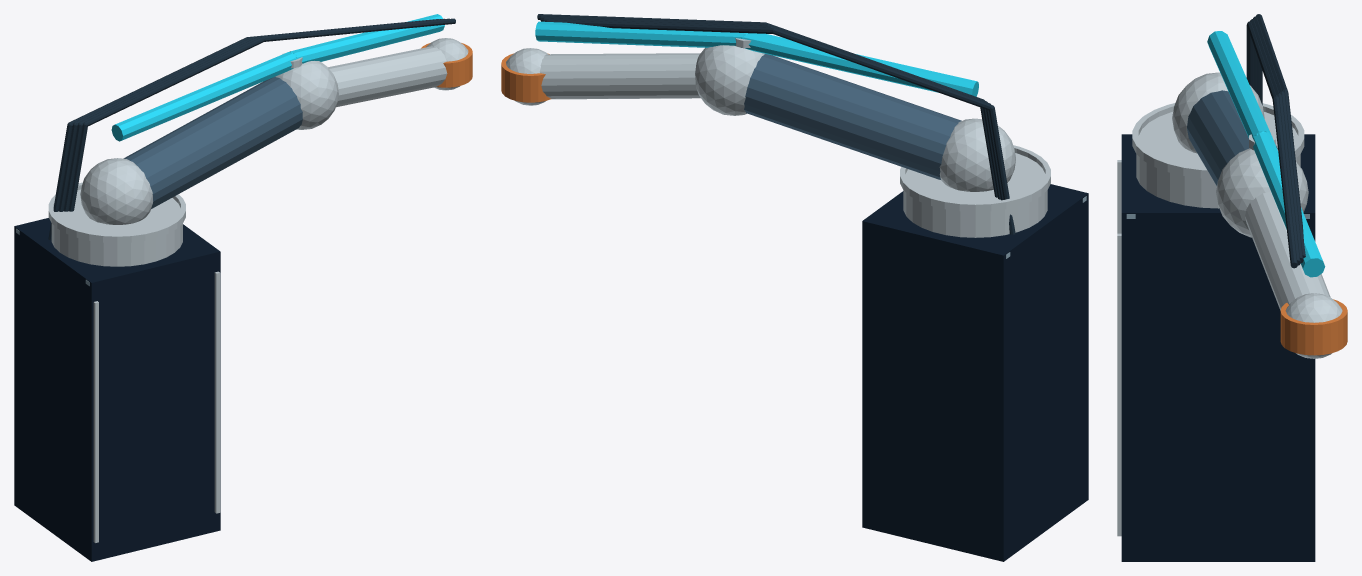
The model's file is 19_L73_MotorizedSlurryDispensingArm.fbx.
3 renders of one model, left to right at view 1: azimuth 30°, elevation 25°; view 2: azimuth 150°, elevation 25°; view 3: azimuth 270°, elevation 25°, orthographic. The views are drawn at different scales.
Visible parts, largest first — view 1: MotorizedSlurryDispensingArm, MotorizedSlurryDispensingArm_Part_0009, MotorizedSlurryDispensingArm_Part_0012, MotorizedSlurryDispensingArm_Part_0010, MotorizedSlurryDispensingArm_Part_0018, MotorizedSlurryDispensingArm_Part_0011, MotorizedSlurryDispensingArm_Part_0019, MotorizedSlurryDispensingArm_Part_0017, MotorizedSlurryDispensingArm_Part_0014; view 2: MotorizedSlurryDispensingArm, MotorizedSlurryDispensingArm_Part_0009, MotorizedSlurryDispensingArm_Part_0012, MotorizedSlurryDispensingArm_Part_0010, MotorizedSlurryDispensingArm_Part_0019, MotorizedSlurryDispensingArm_Part_0011, MotorizedSlurryDispensingArm_Part_0018, MotorizedSlurryDispensingArm_Part_0017, MotorizedSlurryDispensingArm_Part_0014; view 3: MotorizedSlurryDispensingArm, MotorizedSlurryDispensingArm_Part_0012, MotorizedSlurryDispensingArm_Part_0009, MotorizedSlurryDispensingArm_Part_0011, MotorizedSlurryDispensingArm_Part_0018, MotorizedSlurryDispensingArm_Part_0017, MotorizedSlurryDispensingArm_Part_0019, MotorizedSlurryDispensingArm_Part_0010, MotorizedSlurryDispensingArm_Part_0014.
Part boxes in pixels (x1,y1,x2,y2): MotorizedSlurryDispensingArm: [14, 18, 455, 561]; MotorizedSlurryDispensingArm_Part_0009: [123, 77, 302, 208]; MotorizedSlurryDispensingArm_Part_0012: [328, 46, 447, 107]; MotorizedSlurryDispensingArm_Part_0010: [80, 158, 153, 224]; MotorizedSlurryDispensingArm_Part_0018: [111, 52, 295, 141]; MotorizedSlurryDispensingArm_Part_0011: [275, 61, 338, 129]; MotorizedSlurryDispensingArm_Part_0019: [289, 14, 444, 63]; MotorizedSlurryDispensingArm_Part_0017: [421, 43, 472, 87]; MotorizedSlurryDispensingArm_Part_0014: [426, 38, 468, 90]; MotorizedSlurryDispensingArm: [537, 14, 1088, 561]; MotorizedSlurryDispensingArm_Part_0009: [744, 54, 961, 179]; MotorizedSlurryDispensingArm_Part_0012: [539, 53, 700, 99]; MotorizedSlurryDispensingArm_Part_0010: [939, 118, 1015, 191]; MotorizedSlurryDispensingArm_Part_0019: [535, 21, 743, 47]; MotorizedSlurryDispensingArm_Part_0011: [695, 45, 764, 115]; MotorizedSlurryDispensingArm_Part_0018: [743, 33, 978, 96]; MotorizedSlurryDispensingArm_Part_0017: [501, 53, 550, 102]; MotorizedSlurryDispensingArm_Part_0014: [506, 48, 547, 105]; MotorizedSlurryDispensingArm: [1117, 14, 1315, 561]; MotorizedSlurryDispensingArm_Part_0012: [1245, 191, 1330, 310]; MotorizedSlurryDispensingArm_Part_0009: [1187, 90, 1277, 185]; MotorizedSlurryDispensingArm_Part_0011: [1216, 148, 1308, 237]; MotorizedSlurryDispensingArm_Part_0018: [1207, 31, 1271, 137]; MotorizedSlurryDispensingArm_Part_0017: [1280, 299, 1347, 355]; MotorizedSlurryDispensingArm_Part_0019: [1253, 132, 1325, 277]; MotorizedSlurryDispensingArm_Part_0010: [1172, 72, 1264, 153]; MotorizedSlurryDispensingArm_Part_0014: [1285, 293, 1342, 358].
Size of the model in its own units: 254 by 226 by 89.15.
